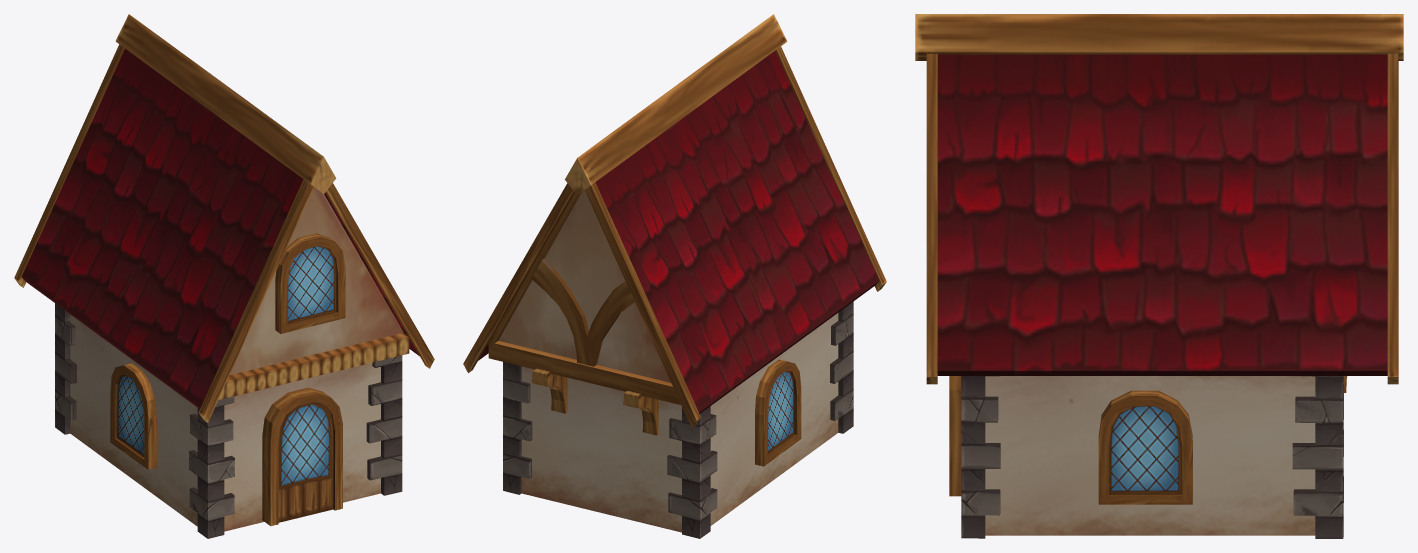
Rendered from building_3_4.FBX.
3 renders of one model, left to right at view 1: azimuth 30°, elevation 25°; view 2: azimuth 150°, elevation 25°; view 3: azimuth 270°, elevation 25°, orthographic. The views are drawn at different scales.
Parts seen in each view (by area): view 1: building_3_4; view 2: building_3_4; view 3: building_3_4.
Boxes of the visible parts, x1,y1,x2,y2 form: building_3_4: [14, 14, 434, 538]; building_3_4: [463, 14, 886, 538]; building_3_4: [915, 14, 1403, 538].
Bounding box in the file's own units: 180 × 276 × 262.
